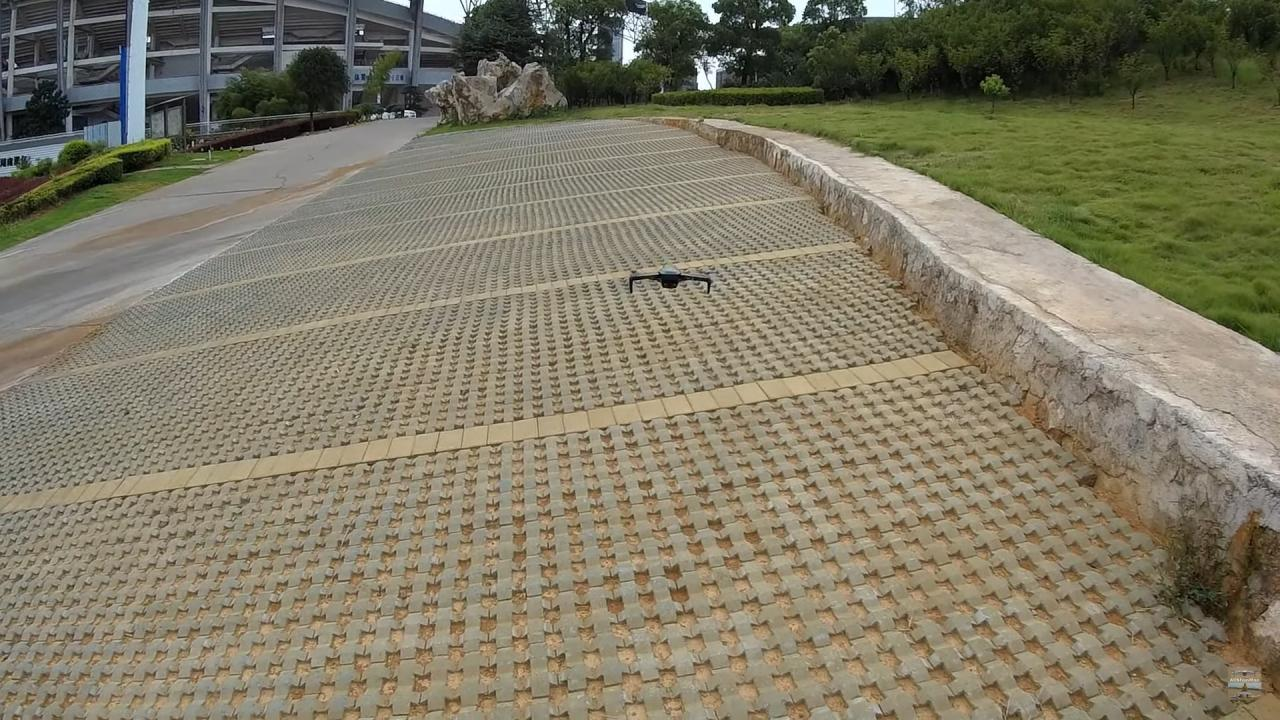Drone: (614, 256, 726, 304)
